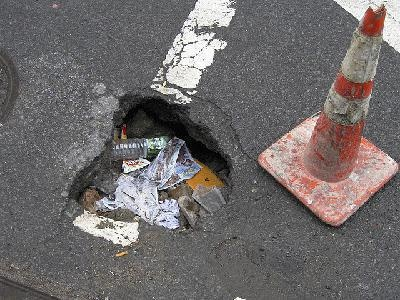pothole: (67, 90, 237, 234)
